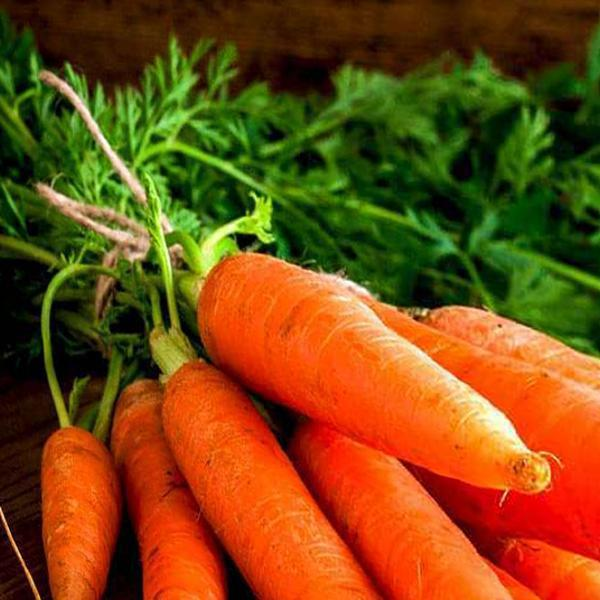carrot: (3, 35, 598, 600), (10, 79, 561, 501), (134, 320, 404, 600), (403, 306, 600, 600), (29, 379, 124, 600)
